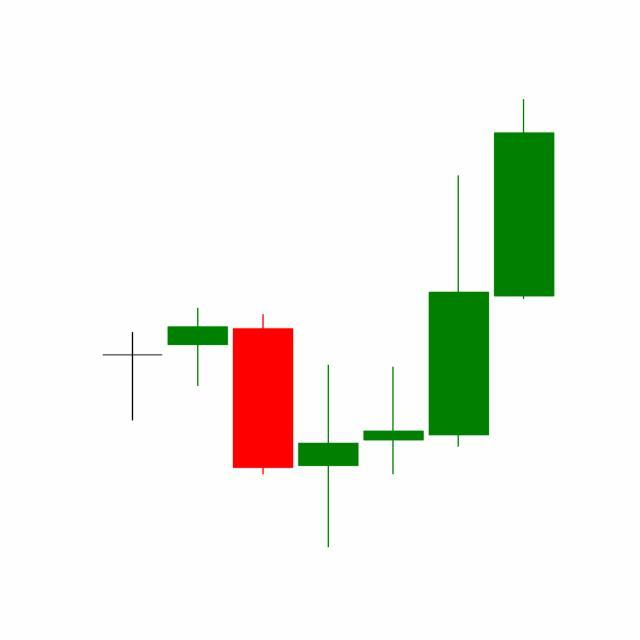Hikkake Pattern: (165, 171, 492, 548)
